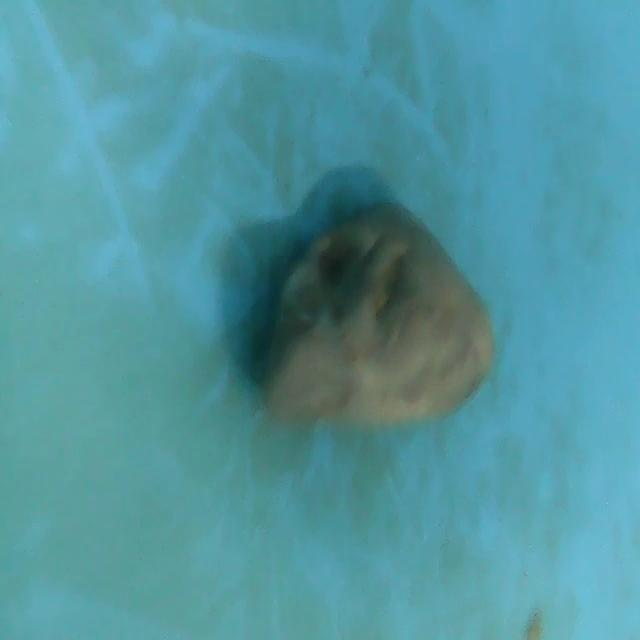rock: (258, 199, 502, 430)
